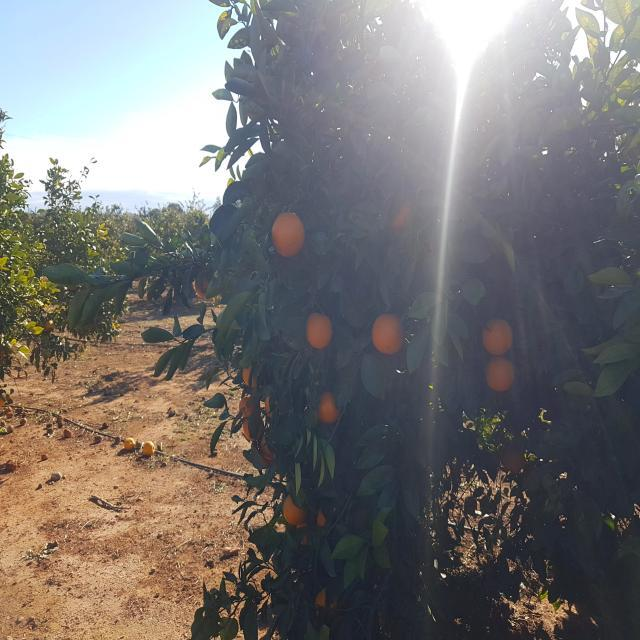Jeruk Sudah Matang: (272, 211, 306, 256), (373, 312, 406, 354), (482, 318, 516, 355), (485, 356, 517, 392), (305, 314, 334, 348), (316, 585, 341, 619), (316, 391, 342, 423), (284, 492, 310, 524), (294, 523, 320, 548), (393, 198, 413, 230), (242, 360, 264, 388), (503, 448, 526, 474), (311, 504, 335, 528), (240, 394, 261, 420), (196, 271, 216, 297), (260, 436, 280, 461), (244, 418, 264, 442), (266, 394, 284, 420)
